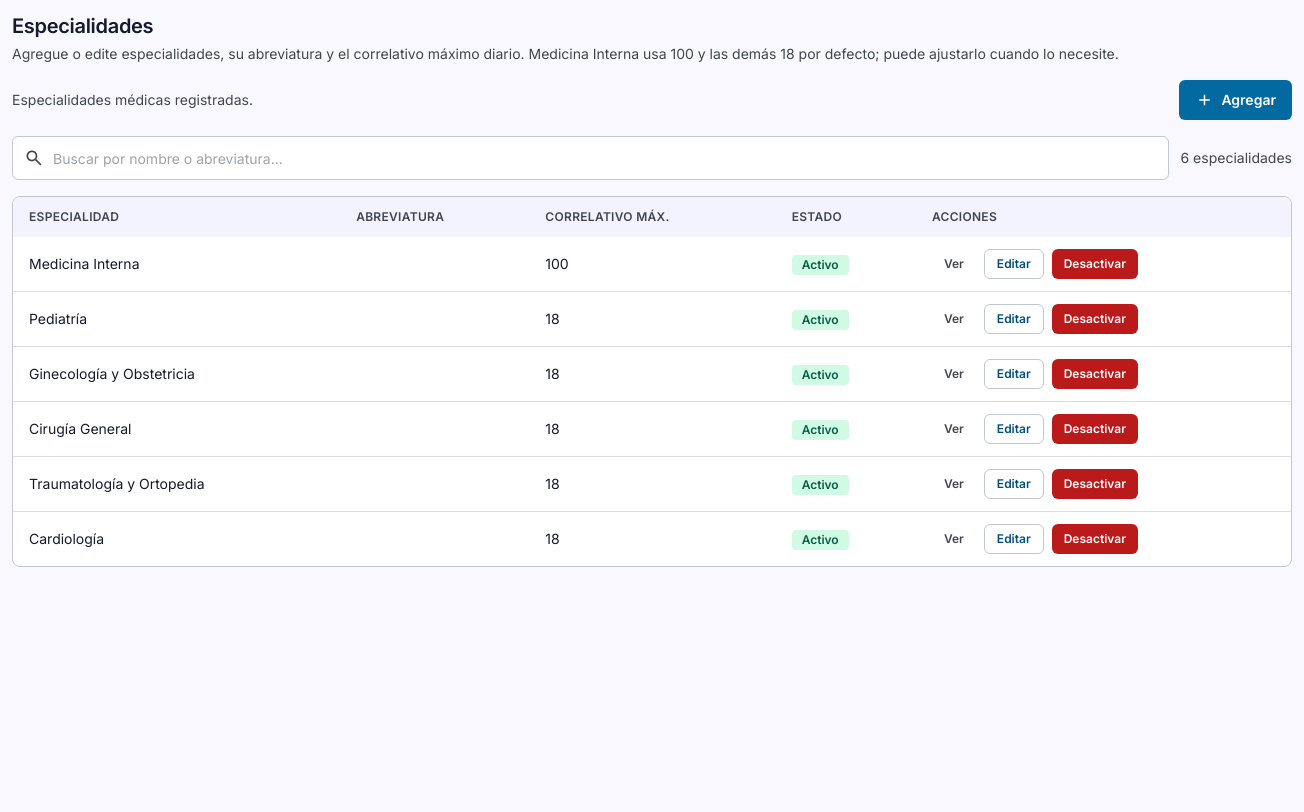
Scenario: EspecialidadesPage › filtra dinámicamente por nombre sin distinguir acentos
This screenshot has width=1304, height=812.
Expected: the text "Medicina Interna" is shown, top-left (13, 237), bottom-right (340, 292)
Expected: the text "Pediatría" is shown, top-left (13, 292), bottom-right (340, 346)
Type "pediatria" into the search field named "Buscar especialidad" at point(590, 158), box top-left (12, 136), bottom-right (1168, 180)
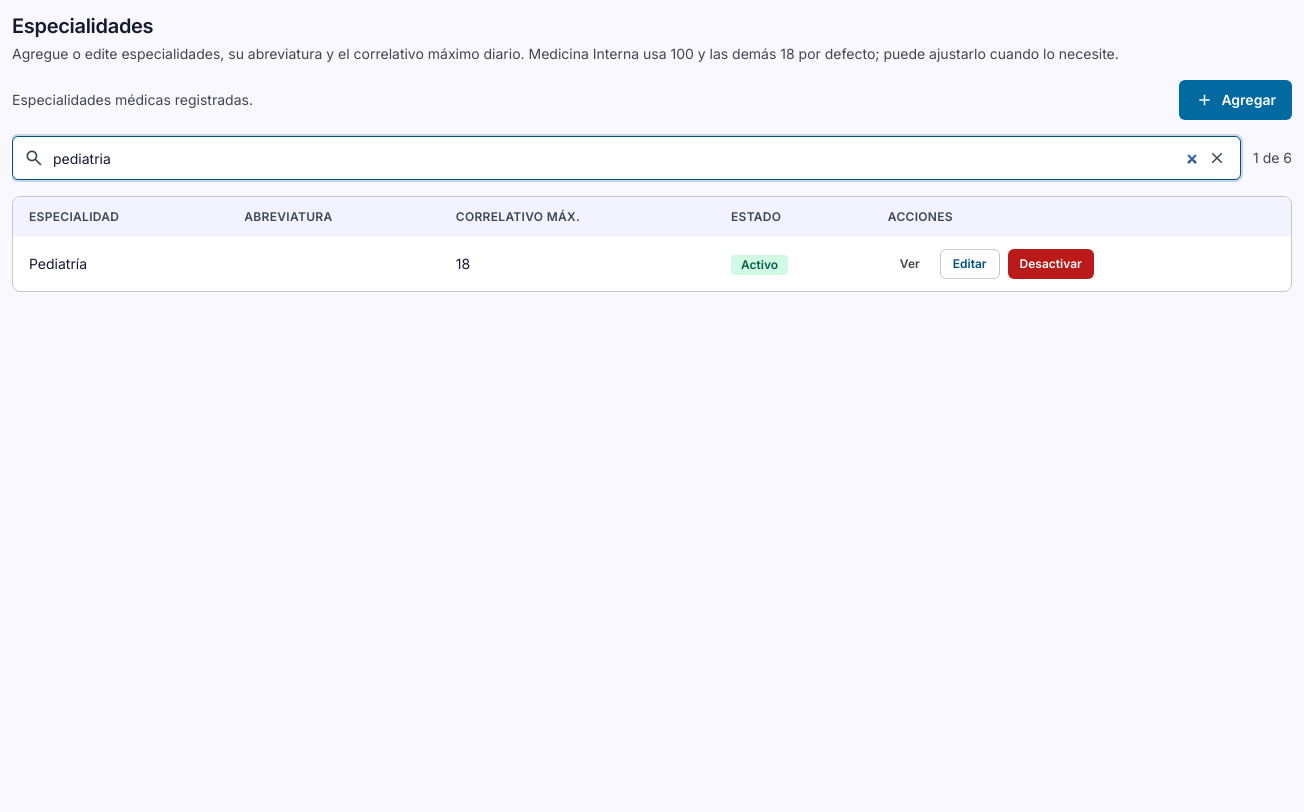
Expected: the text "Medicina Interna" is not shown
Result: the text with test id "conteo-especialidades" reads "1 de 6" at top-left (1253, 149), bottom-right (1292, 166)
